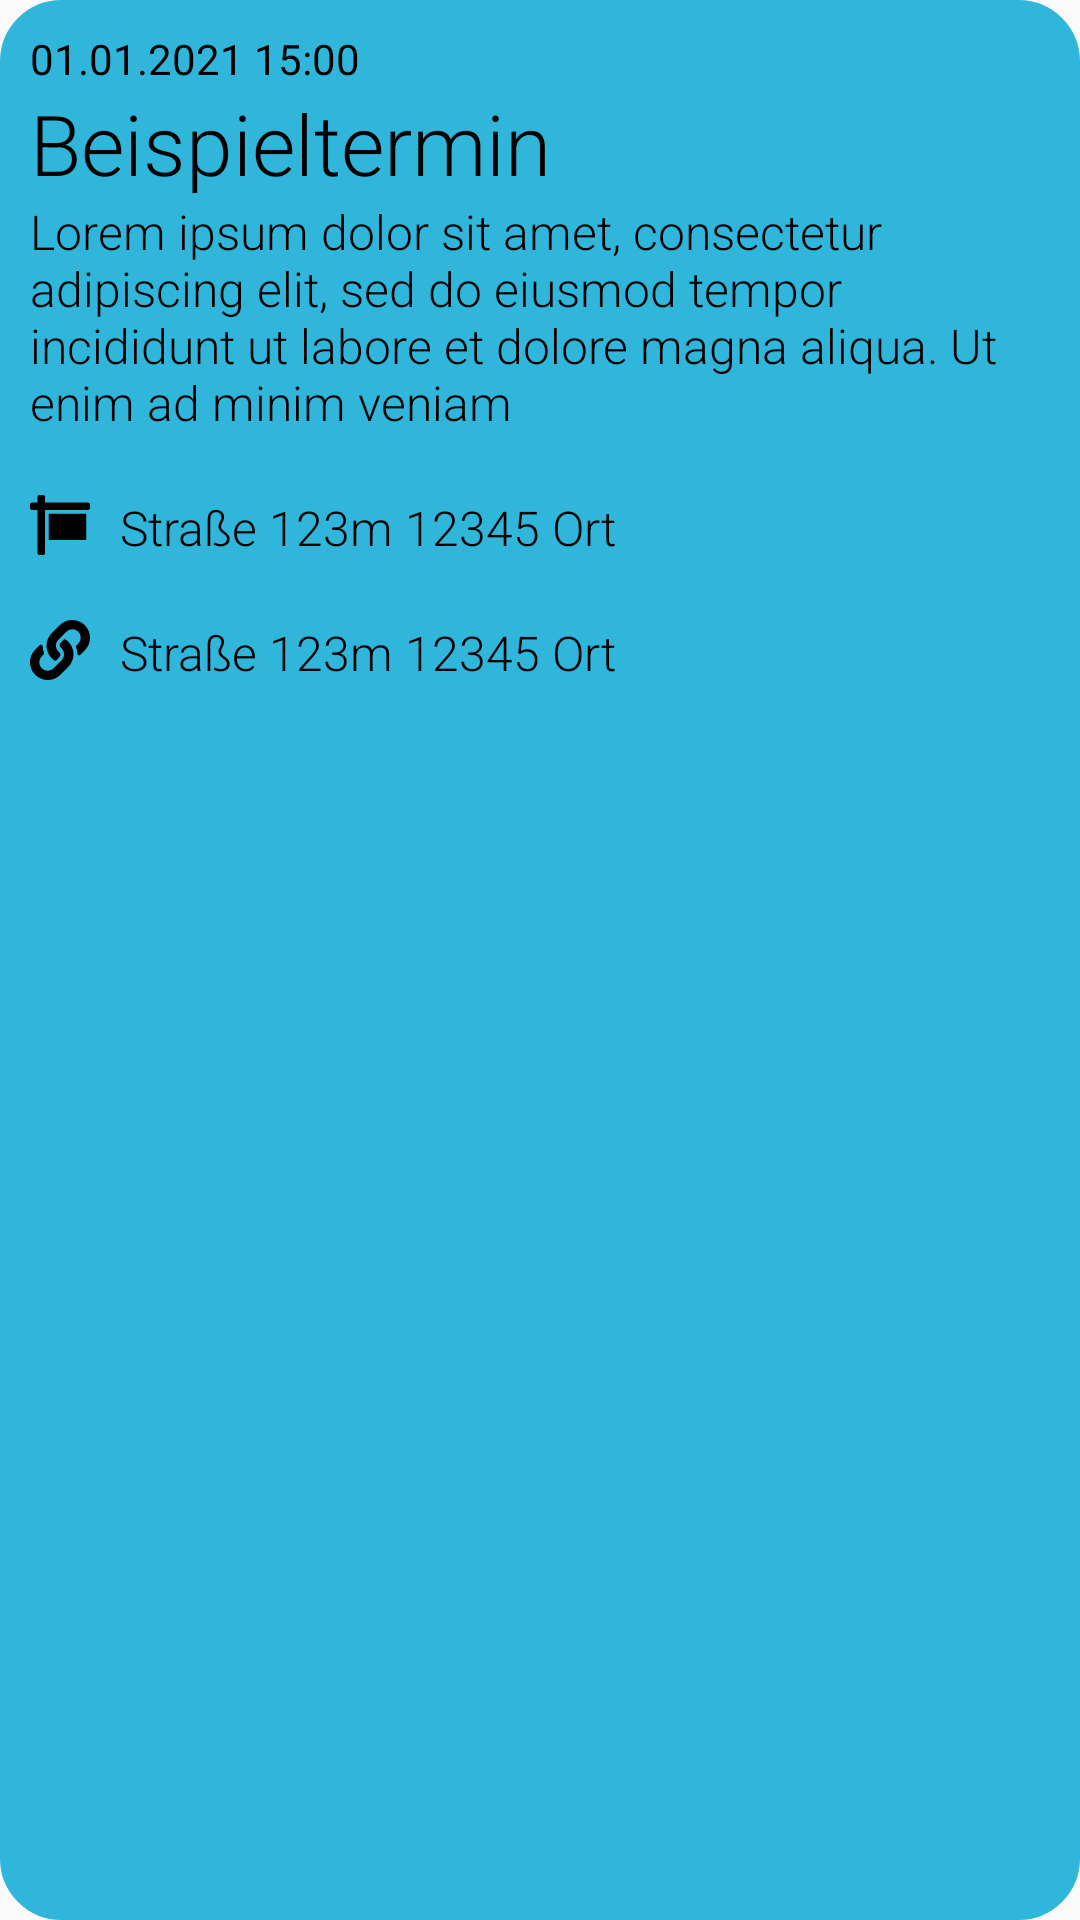

Icons on this 1080w x 1920h Android screen, each with the point to tap as point (x, y):
link: point (60, 650)
sign: point (60, 525)
